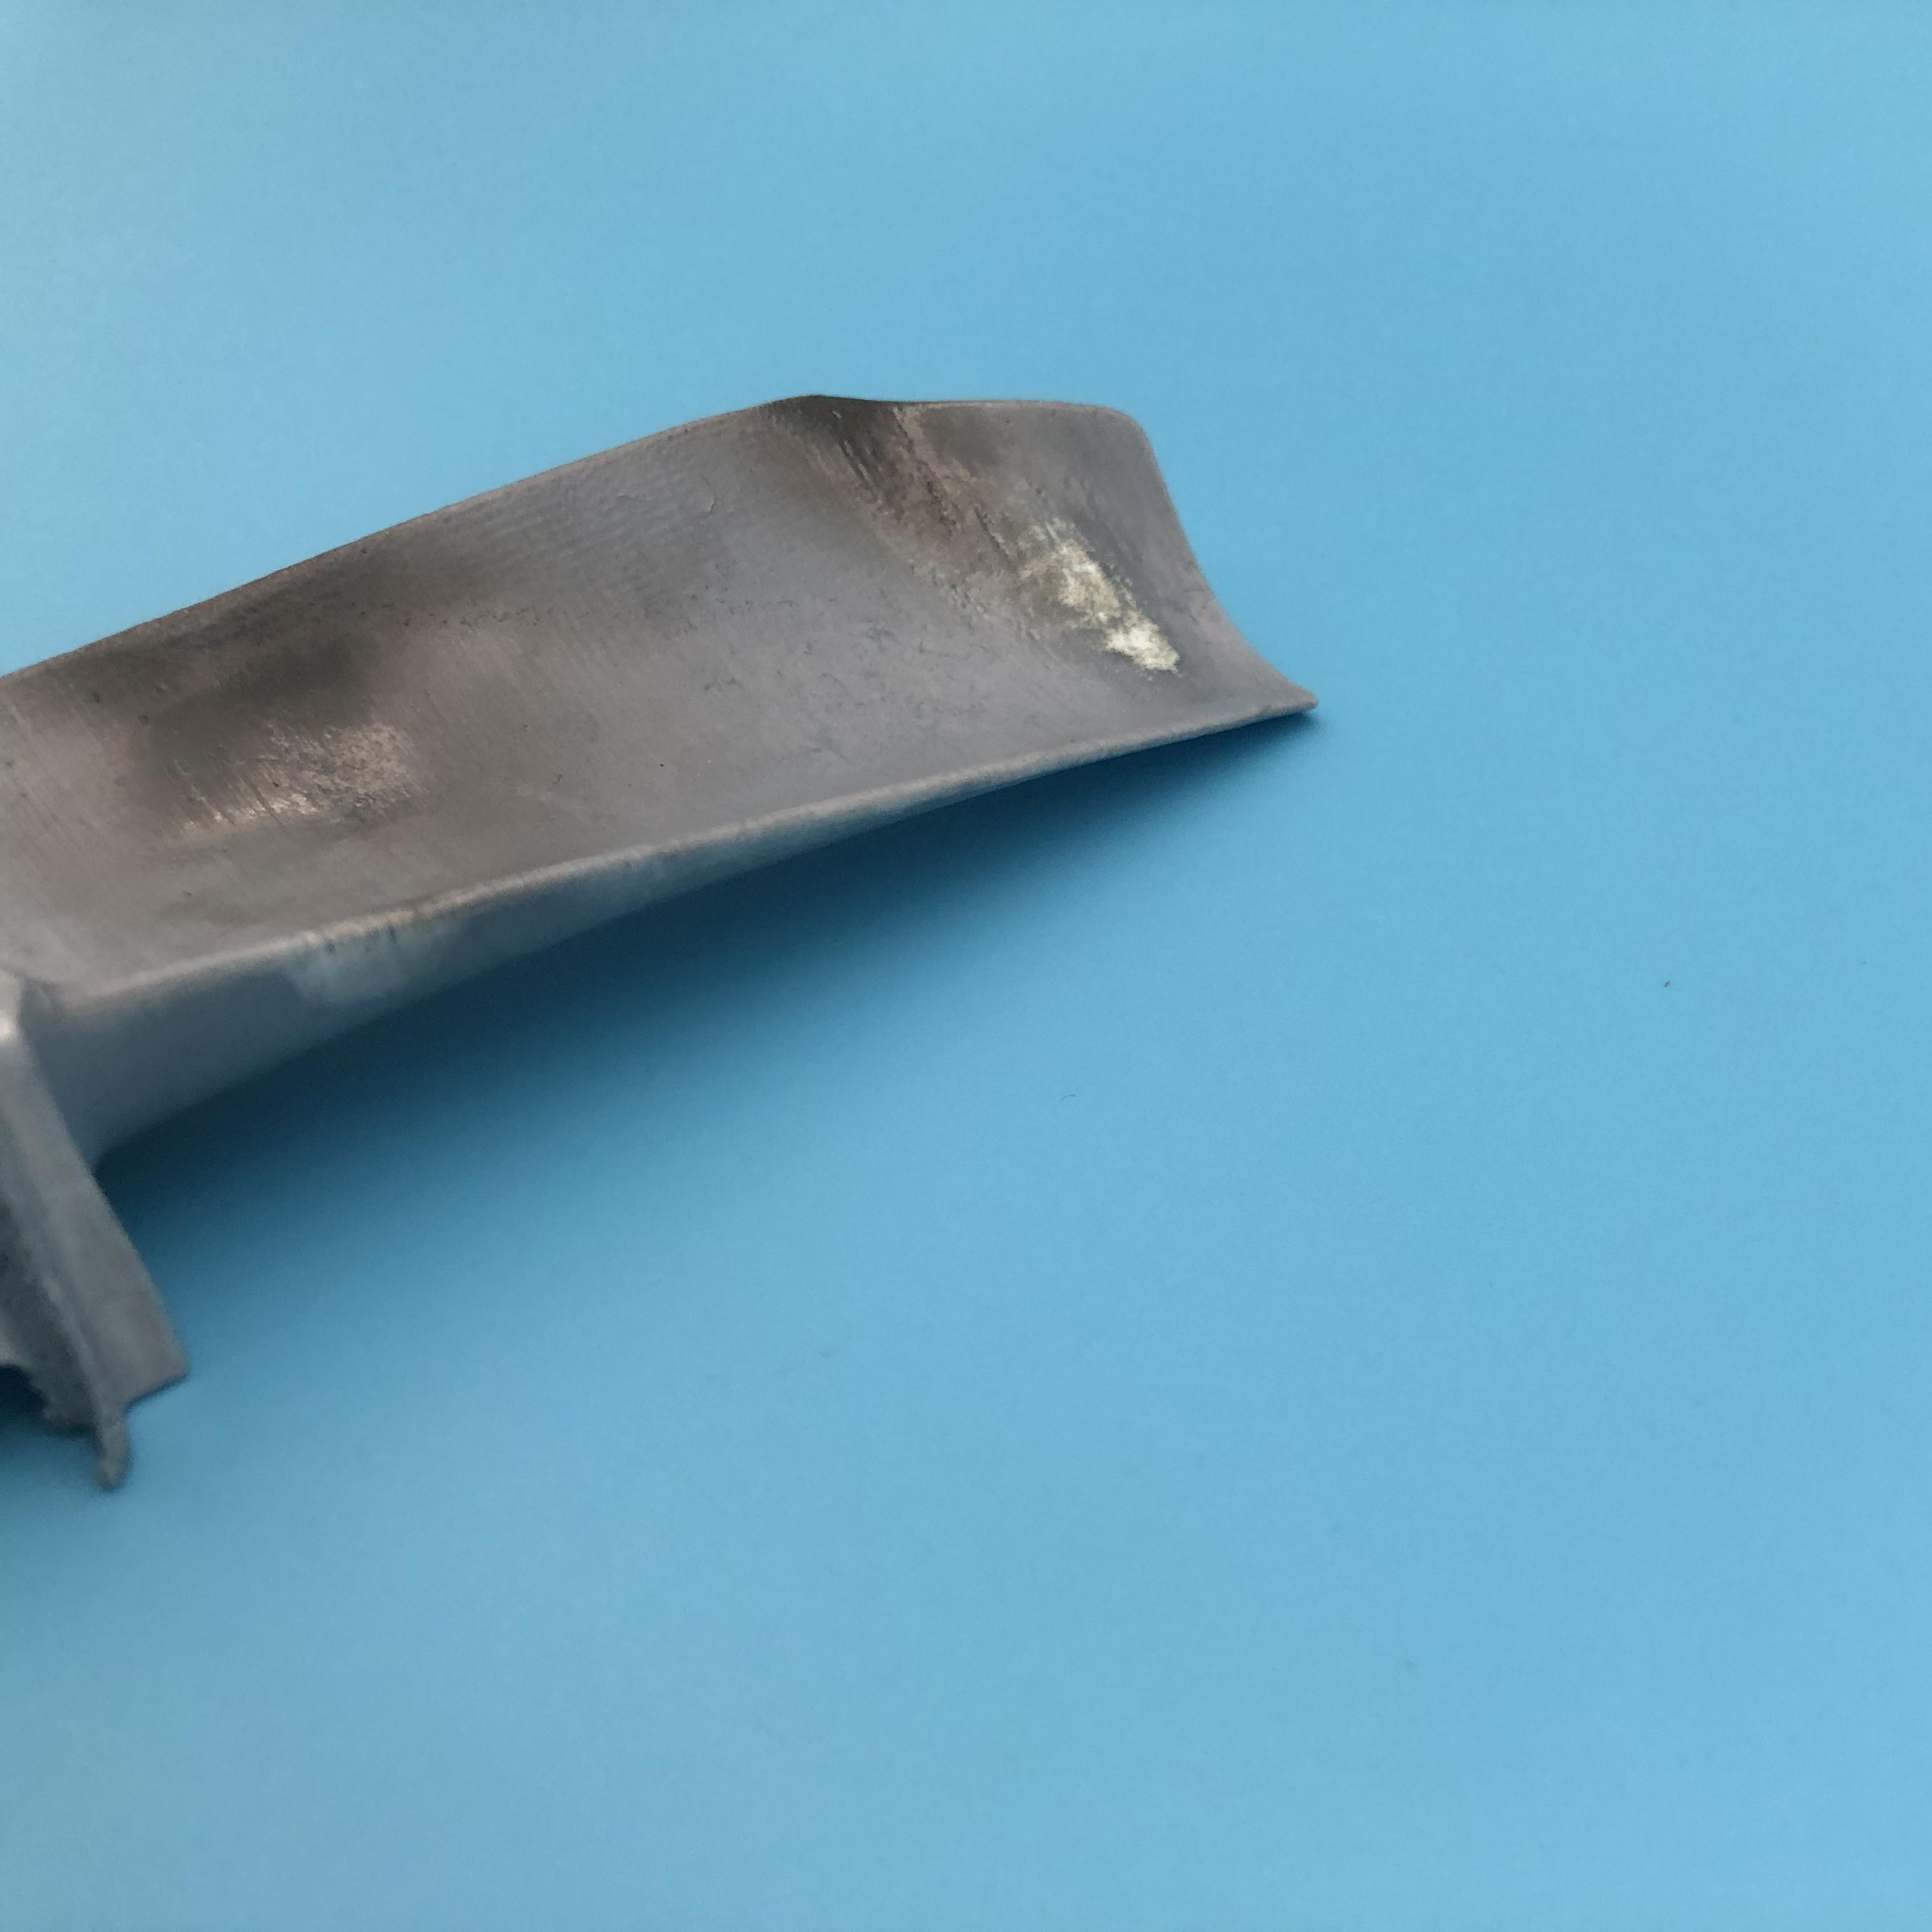ablation: (80, 584, 529, 893), (782, 407, 1187, 685)
